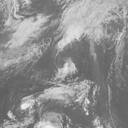cyclone: (58, 57, 77, 81)
